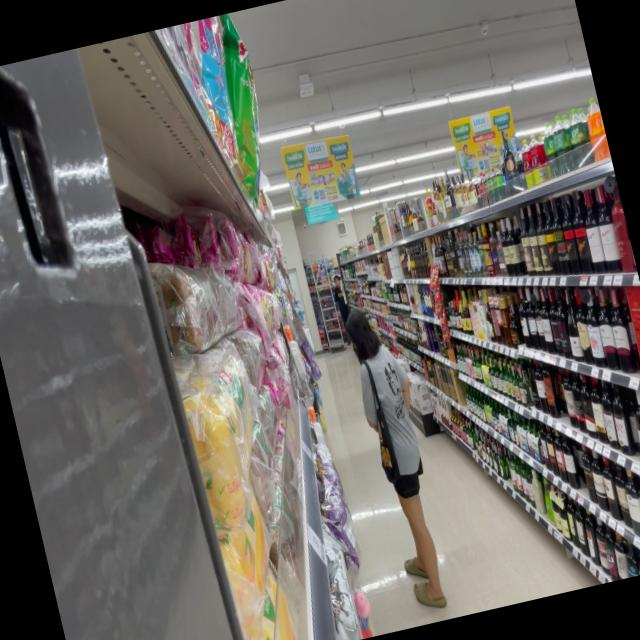shoplifting: (338, 301, 464, 619)
